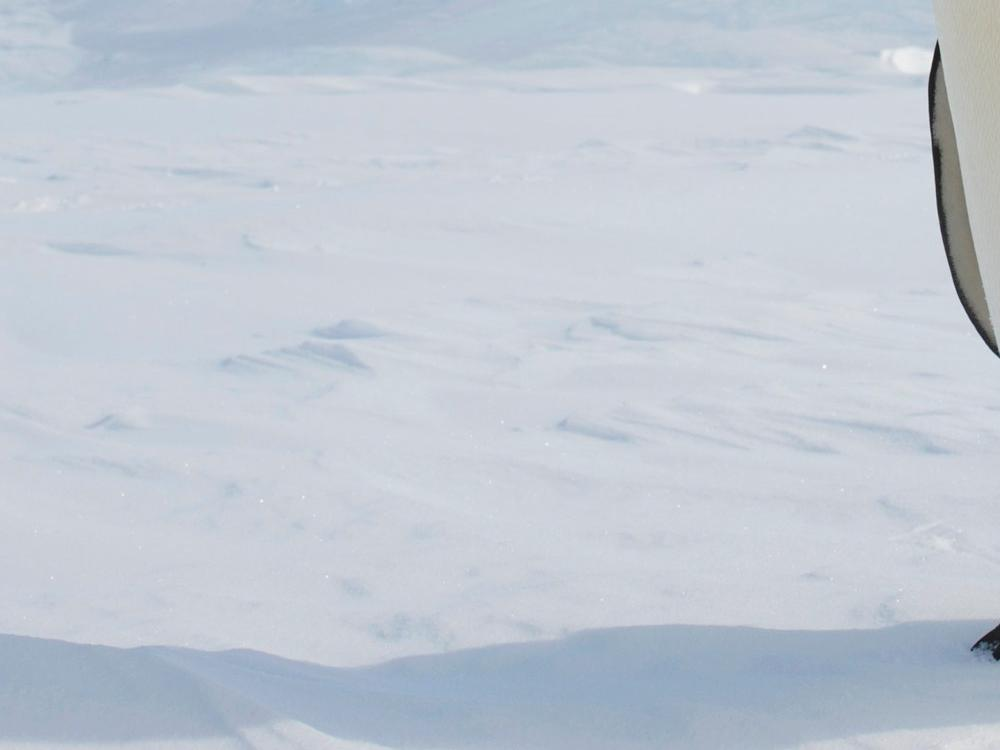Emperor Penguin: (603, 0, 1000, 697)
